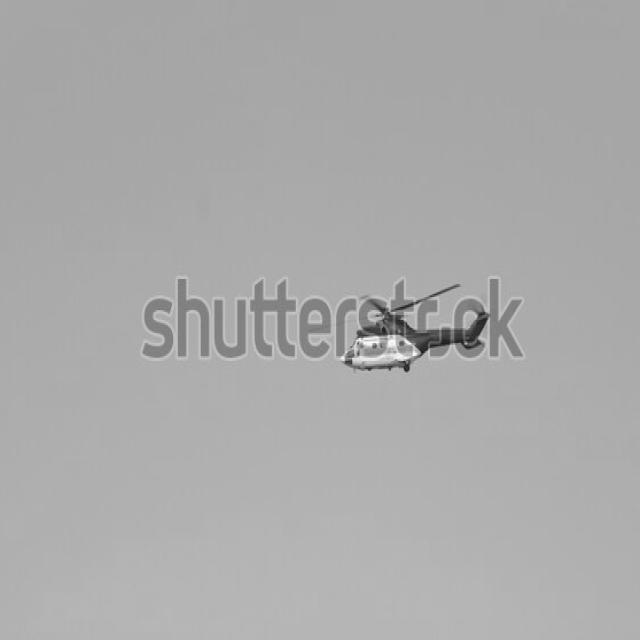helicopter: (343, 285, 491, 382)
